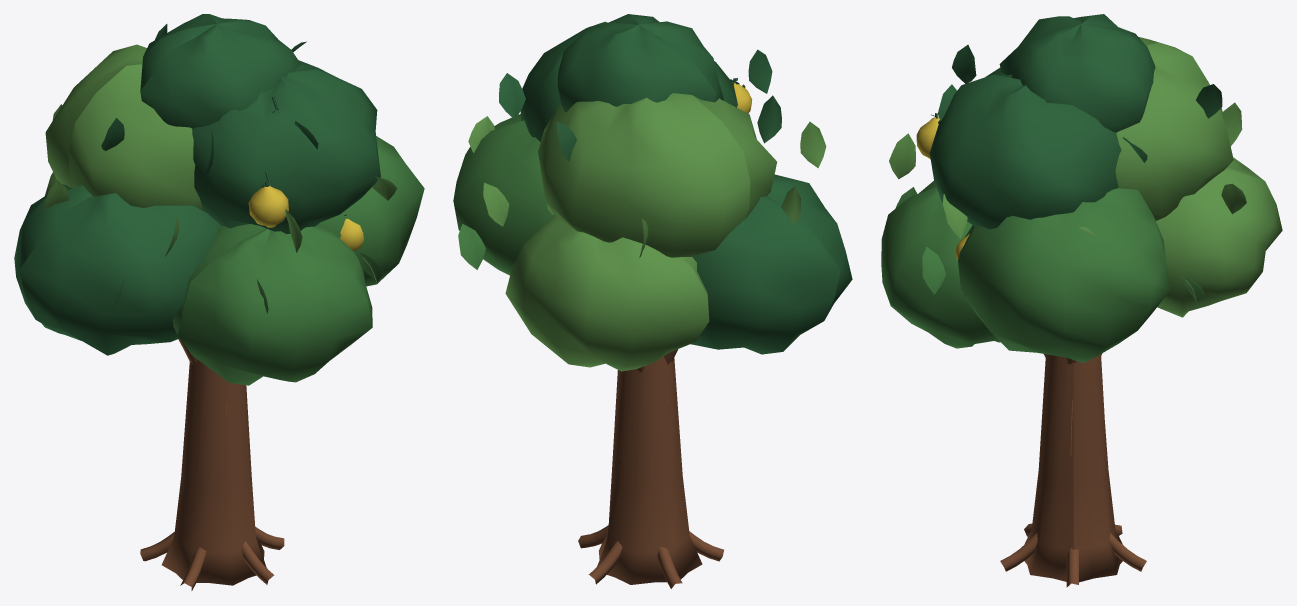
Rendered from limonero.glb.
3 views of the same model, side by side, from view 1: azimuth 30°, elevation 25°; view 2: azimuth 150°, elevation 25°; view 3: azimuth 270°, elevation 25° (orthographic).
Visible parts, largest first — view 1: limonero_copa_viento_0, limonero; view 2: limonero_copa_viento_0, limonero; view 3: limonero_copa_viento_0, limonero.
Boxes of the visible parts, box(x1,y1,x2,y2) form: limonero_copa_viento_0: box(14, 14, 424, 385); limonero: box(140, 338, 284, 590); limonero_copa_viento_0: box(453, 14, 852, 371); limonero: box(578, 349, 723, 588); limonero_copa_viento_0: box(881, 14, 1282, 362); limonero: box(1000, 353, 1146, 587).
Bounding box in the file's own units: 1.58 × 2.11 × 1.42.
